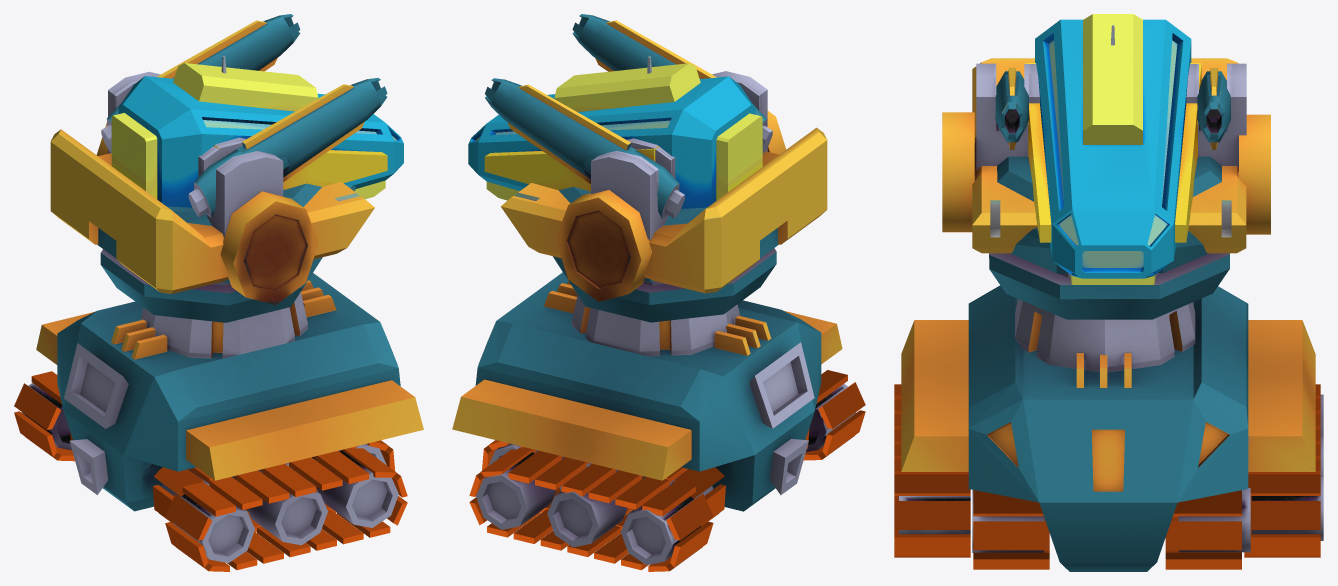
The model's file is Player_Idle_2_Upgrade7.obj.
The picture shows the model from 3 angles, left to right: view 1: azimuth 30°, elevation 25°; view 2: azimuth 150°, elevation 25°; view 3: azimuth 270°, elevation 25°; orthographic projection. The views are drawn at different scales.
Parts seen in each view (by area): view 1: Object008, Box020, Object014, Box018, Box019, Box017; view 2: Object008, Box019, Object014, Box018, Box020, Box016; view 3: Object008, Box020, Box019, Box017, Box016, Object014, Box018, Box009.
Boxes of the visible parts, box(x1,y1,x2,y2) form: Object008: box(36, 63, 423, 511); Box020: box(165, 448, 407, 571); Object014: box(101, 14, 387, 217); Box018: box(21, 383, 398, 562); Box019: box(14, 371, 74, 461); Box017: box(152, 440, 395, 532); Object008: box(452, 63, 842, 511); Box019: box(469, 447, 713, 571); Object014: box(485, 14, 772, 219); Box018: box(476, 384, 856, 565); Box020: box(803, 370, 865, 460); Box016: box(482, 440, 725, 530); Object008: box(901, 14, 1315, 571); Box020: box(894, 384, 970, 557); Box019: box(1244, 384, 1320, 557); Box017: box(973, 490, 1049, 569); Box016: box(1165, 490, 1241, 569); Object014: box(995, 68, 1230, 149); Box018: box(899, 394, 1323, 540); Box009: box(972, 488, 1250, 552).
Size of the model in its own units: 65.77 by 86.57 by 68.55.
5 materials, 3 textured.
